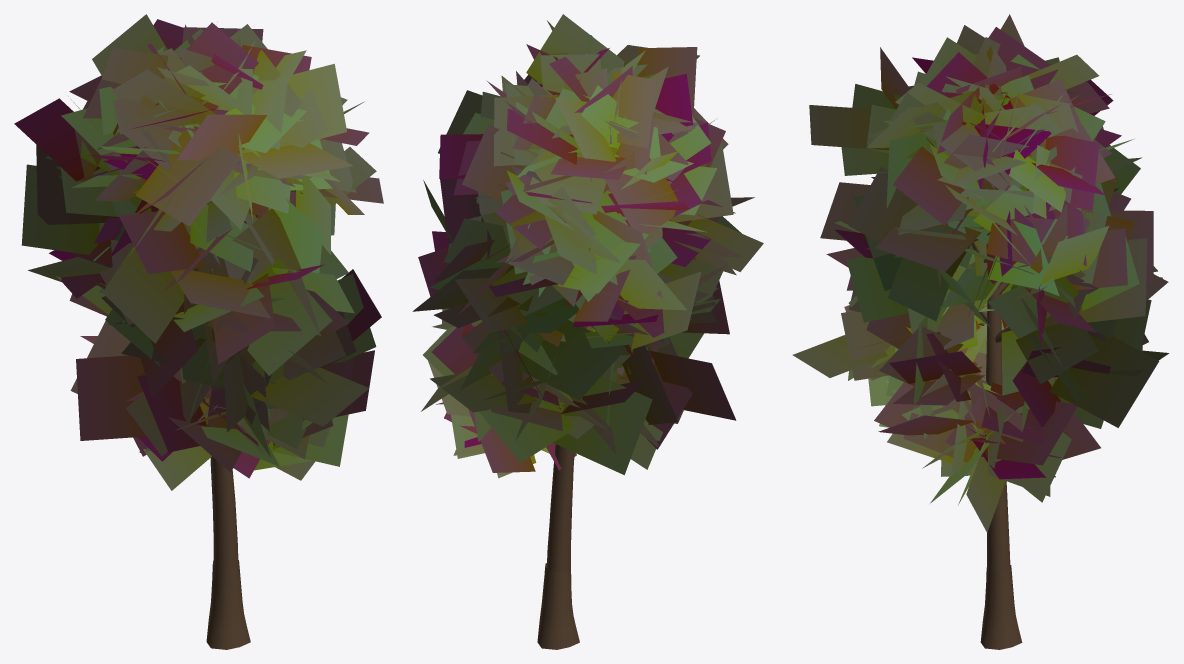
The model's file is tree_birch_1.glb.
The picture shows the model from 3 angles, left to right: view 1: azimuth 30°, elevation 25°; view 2: azimuth 150°, elevation 25°; view 3: azimuth 270°, elevation 25°; orthographic projection. The views are drawn at different scales.
Visible parts, largest first — view 1: Leaves, Trunk; view 2: Leaves, Trunk; view 3: Leaves, Trunk.
Part boxes in pixels (x1=…): Leaves: x1=14, y1=14, x2=383, y2=490; Trunk: x1=109, y1=162, x2=295, y2=649; Leaves: x1=412, y1=14, x2=763, y2=478; Trunk: x1=507, y1=243, x2=625, y2=649; Leaves: x1=792, y1=14, x2=1169, y2=532; Trunk: x1=926, y1=137, x2=1053, y2=649.
Bounding box in the file's own units: 3.76 × 7.48 × 4.42.
